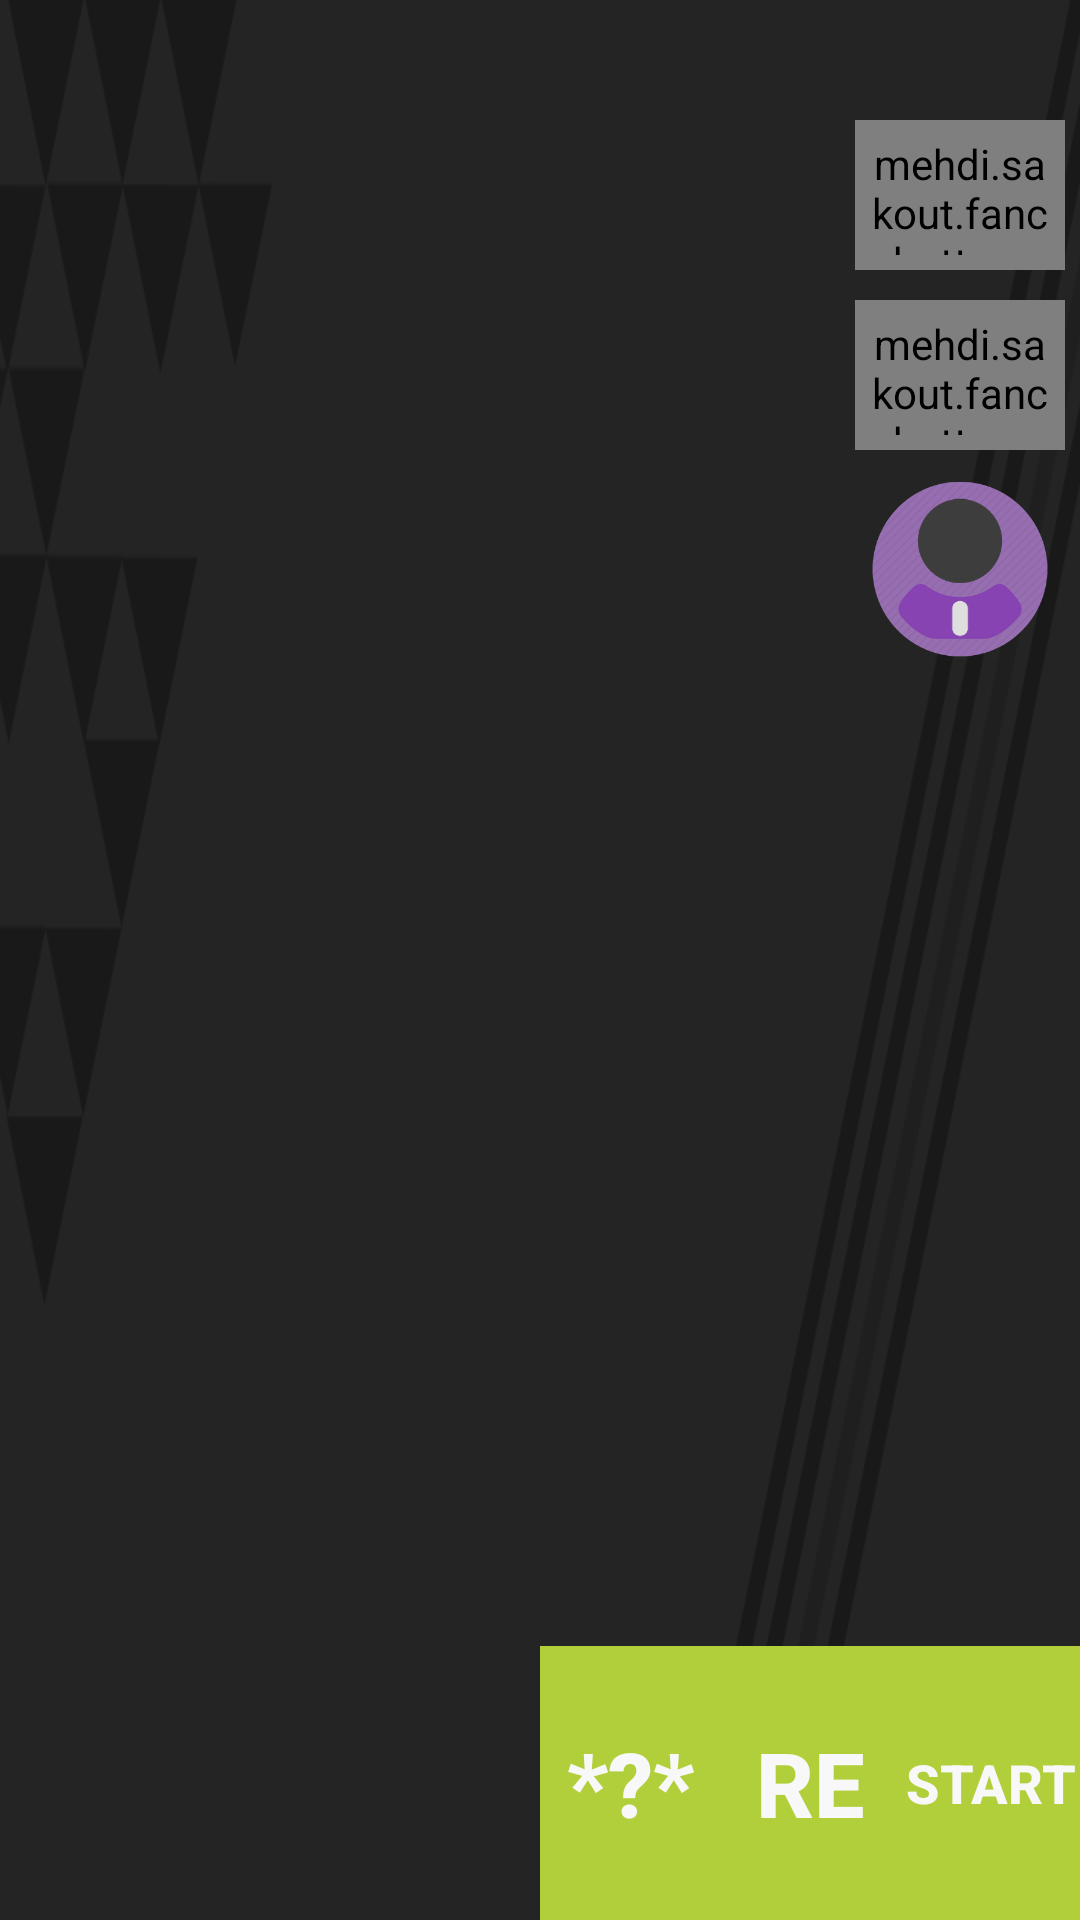

Screen size 1080px×1920px. Icon name, then its center in pixels as point (x, y):
player: point (960, 569)
